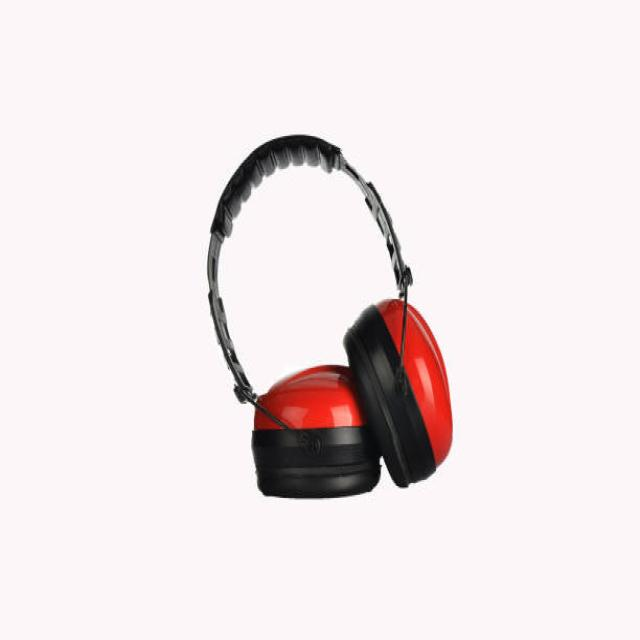Ear-protection: (164, 95, 469, 512)
